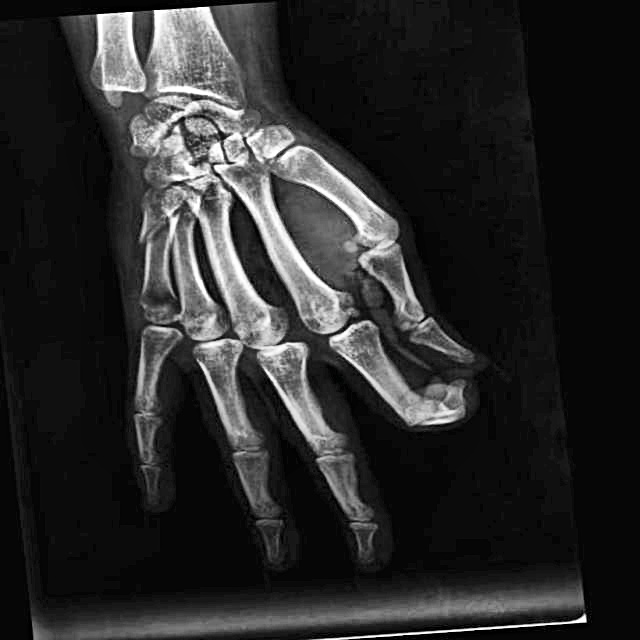Comminuted: (399, 370, 473, 450)
Oblique Displaced: (118, 189, 189, 264)
